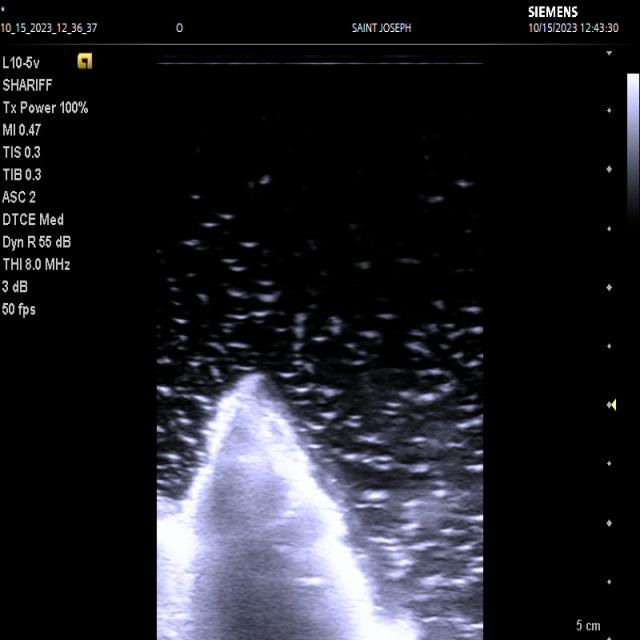tissue: (157, 373, 403, 640)
